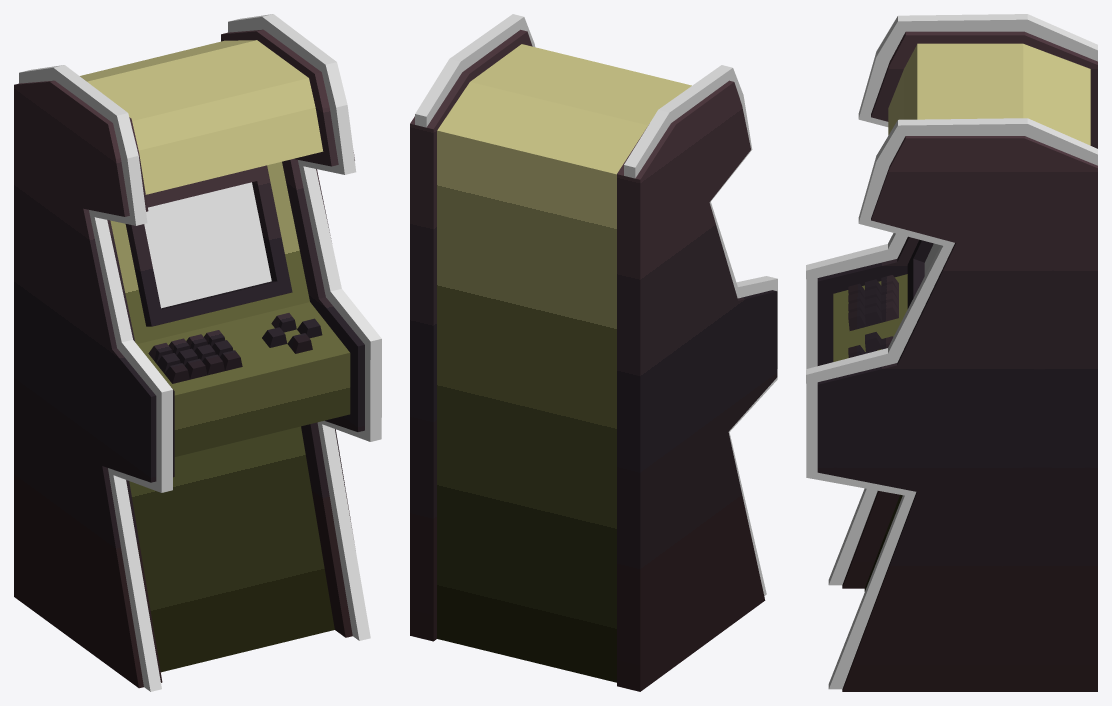
The picture shows the model from 3 angles, left to right: view 1: azimuth 30°, elevation 25°; view 2: azimuth 150°, elevation 25°; view 3: azimuth 270°, elevation 25°; orthographic projection. The views are drawn at different scales.
Parts seen in each view (by area): view 1: Plane.001, gl_1.002, gl_2.001; view 2: Plane.001, gl_1.002; view 3: Plane.001, gl_1.002.
Part boxes in pixels (x1,y1,x2,y2): Plane.001: [14, 29, 364, 688]; gl_1.002: [19, 14, 381, 691]; gl_2.001: [144, 182, 271, 308]; Plane.001: [410, 29, 777, 691]; gl_1.002: [415, 14, 777, 595]; Plane.001: [817, 31, 1097, 691]; gl_1.002: [806, 14, 1097, 689].
Size of the model in its own units: 458 by 1050 by 491.
